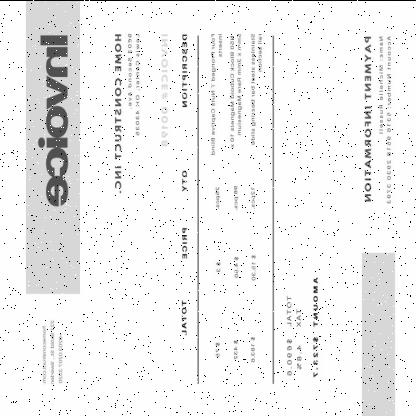Paragraph: (37, 30, 70, 208), (362, 32, 394, 206), (112, 29, 142, 195), (282, 273, 321, 379), (40, 314, 66, 386), (158, 30, 170, 148)
Table: (178, 30, 274, 384)
